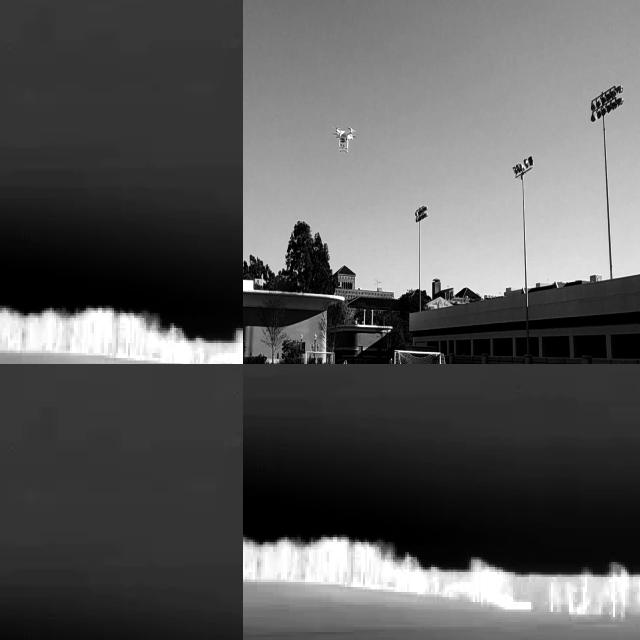drone: (332, 122, 358, 154)
